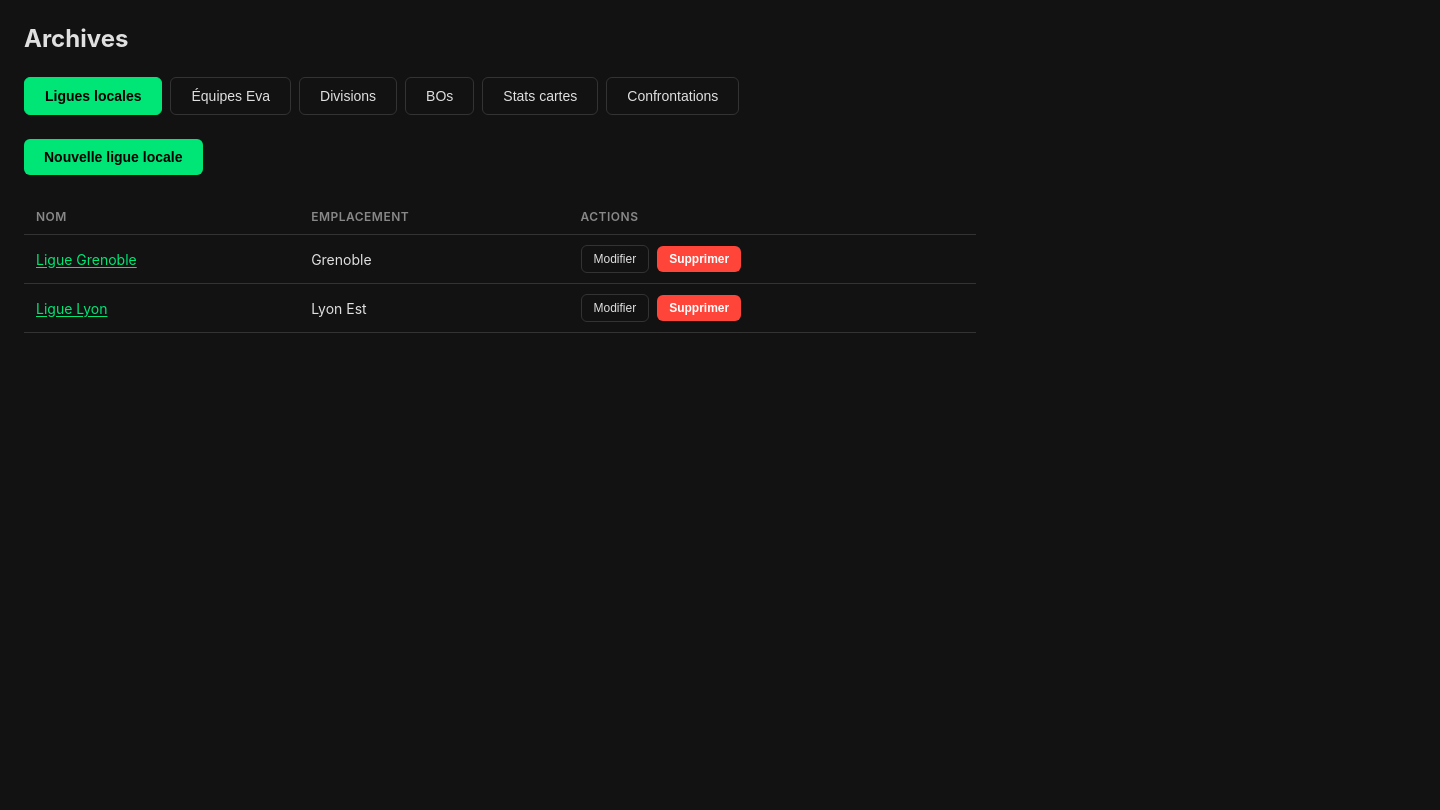
Test: ArchivePage › opens create form modal
The width and height of the screenshot is (1440, 810).
Click the button "Nouvelle ligue locale".
click(113, 157)  # box [24,139,202,175]
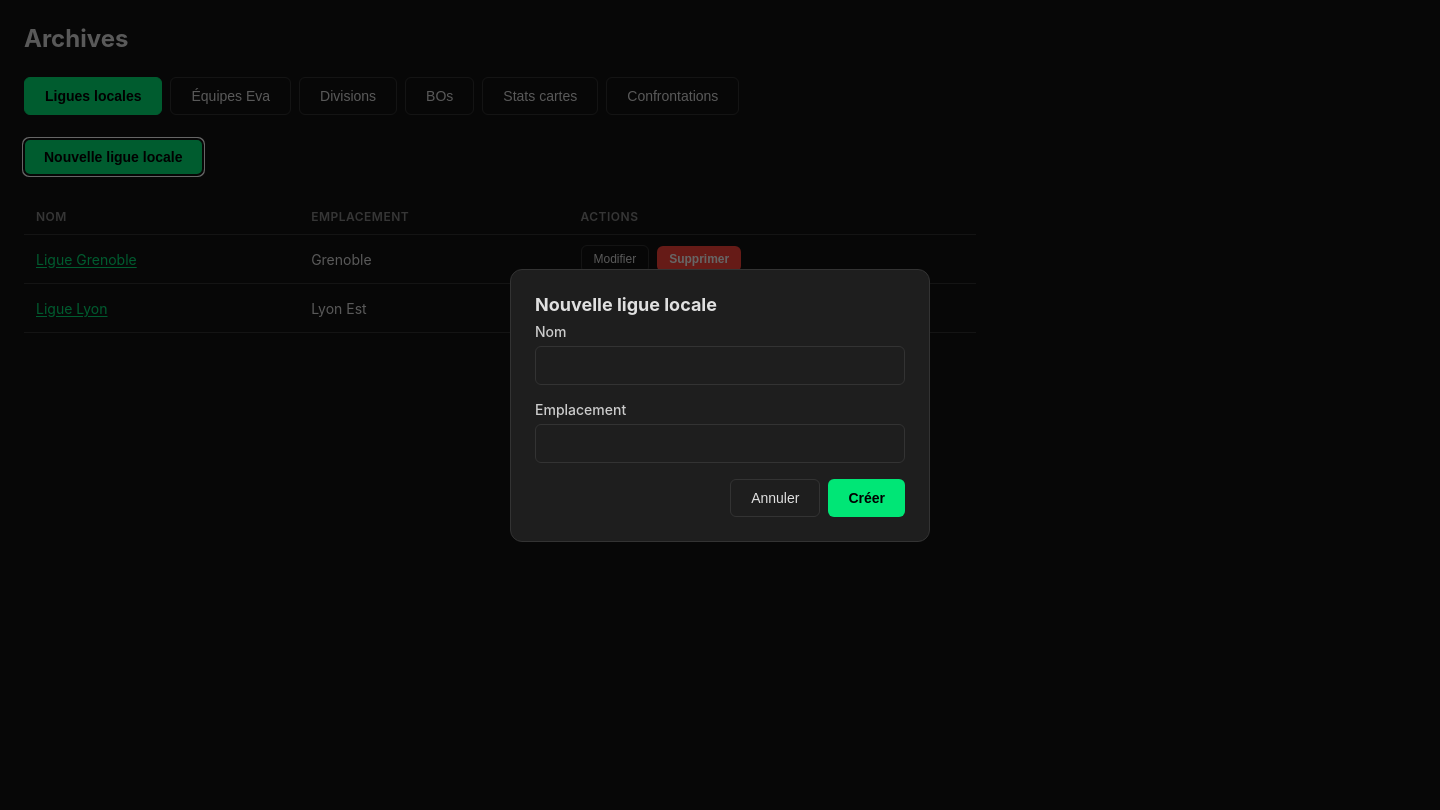
Now the button "Créer" is shown, box [828,478,905,516]
